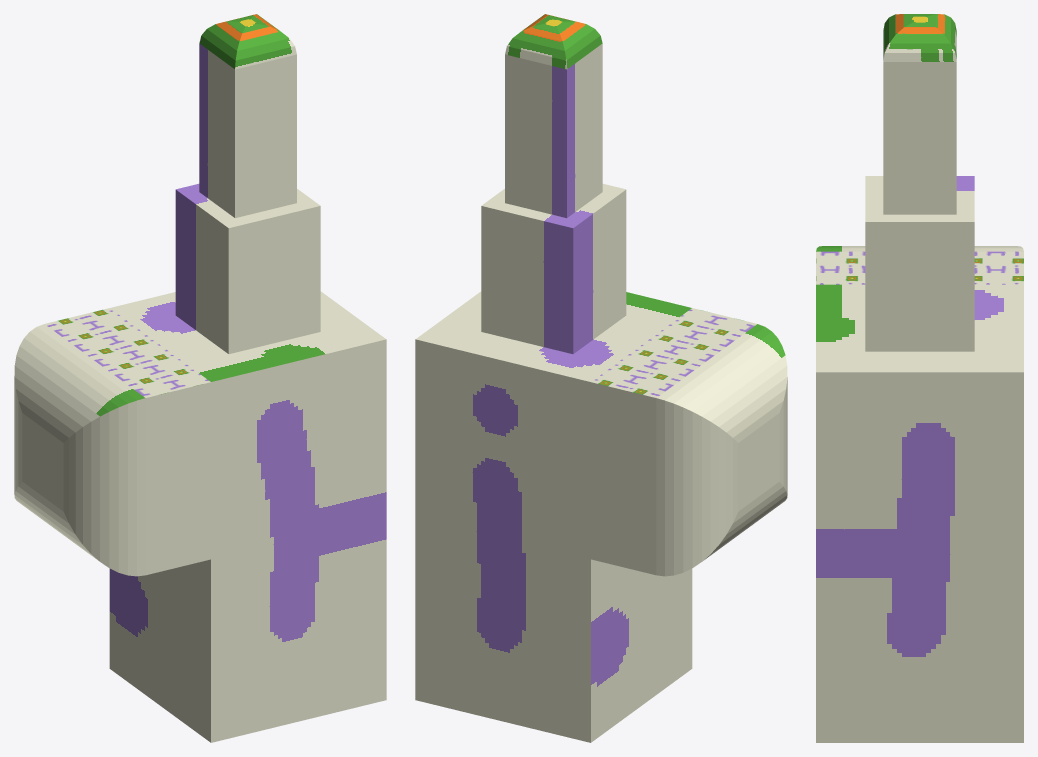
The model's file is Werid.glb.
The picture shows the model from 3 angles, left to right: view 1: azimuth 30°, elevation 25°; view 2: azimuth 150°, elevation 25°; view 3: azimuth 270°, elevation 25°; orthographic projection. The views are drawn at different scales.
Visible parts, largest first — view 1: Cube; view 2: Cube; view 3: Cube.
Part boxes in pixels (box(x1,y1,x2,y2)): Cube: box(14, 14, 386, 742); Cube: box(415, 14, 787, 742); Cube: box(816, 14, 1023, 742).
Bounding box in the file's own units: 3.34 × 7.21 × 2.
1 material, 1 textured.
